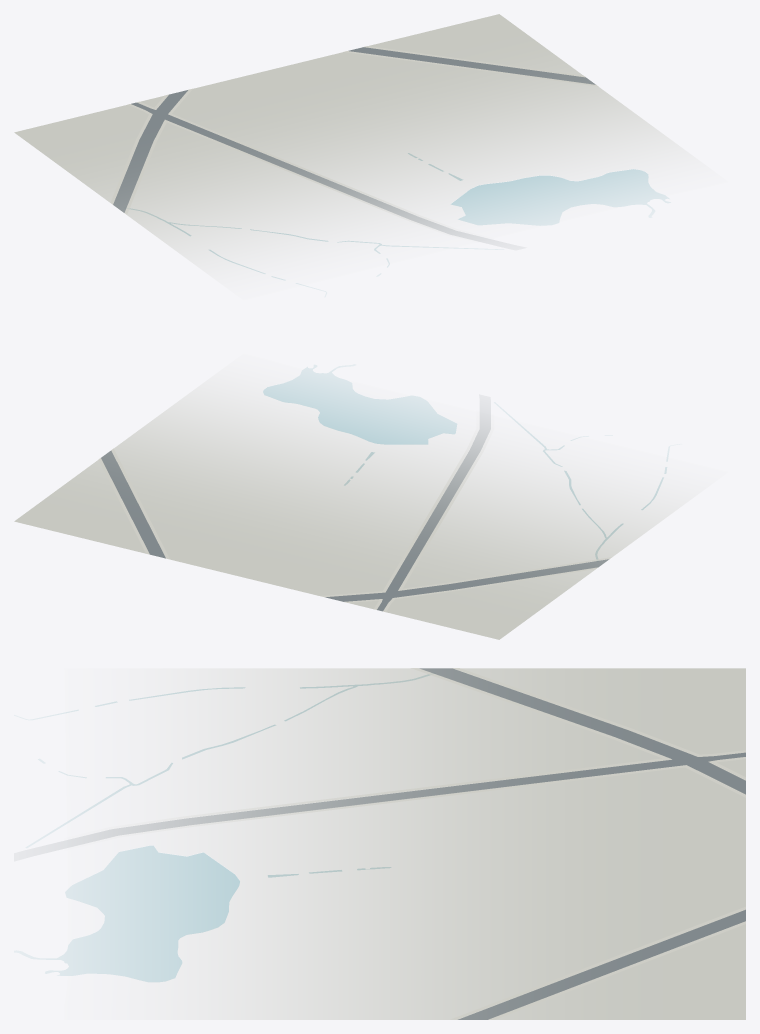
3 renders of one model, top to bottom at view 1: azimuth 30°, elevation 25°; view 2: azimuth 150°, elevation 25°; view 3: azimuth 270°, elevation 25°, orthographic. The views are drawn at different scales.
Visible parts, largest first — view 1: city; view 2: city; view 3: city.
Boxes of the visible parts, box(x1,y1,x2,y2) form: city: box(14, 14, 694, 286); city: box(14, 365, 694, 639); city: box(38, 668, 745, 1019).
Size of the model in its own units: 500 by 0.4 by 440.
